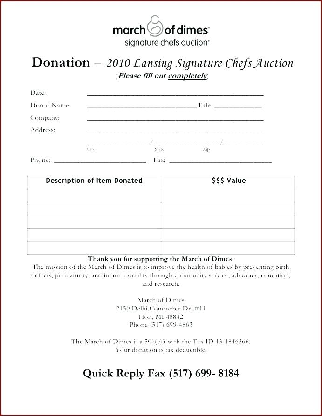textbox: (26, 187, 163, 205), (26, 213, 163, 231), (159, 187, 296, 205), (158, 213, 295, 231), (159, 226, 296, 244), (159, 239, 296, 257), (26, 200, 163, 217), (25, 227, 162, 244), (25, 240, 162, 257), (159, 200, 296, 217)
textline: (86, 84, 264, 98), (86, 111, 265, 124), (85, 123, 266, 135), (167, 152, 273, 165), (53, 152, 148, 165), (86, 100, 198, 110), (153, 136, 221, 148), (84, 135, 149, 147), (212, 99, 264, 111), (222, 136, 266, 148)
